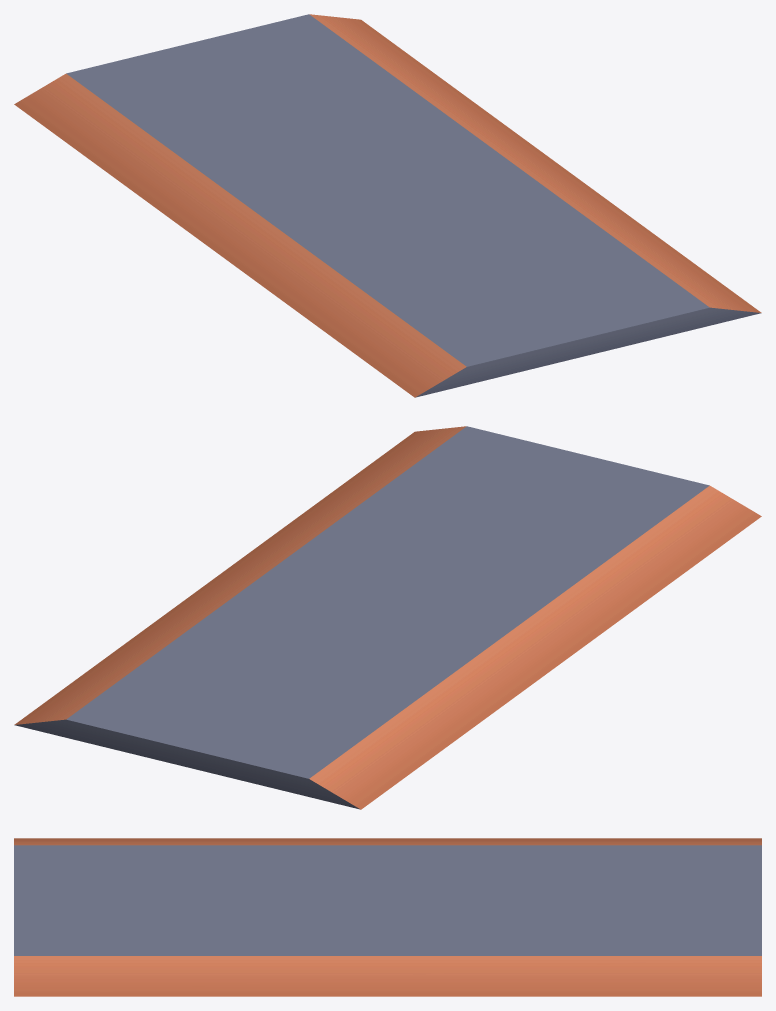
Rendered from sub-path-long.glb.
The picture shows the model from 3 angles, top to bottom: view 1: azimuth 30°, elevation 25°; view 2: azimuth 150°, elevation 25°; view 3: azimuth 270°, elevation 25°; orthographic projection. The views are drawn at different scales.
Visible parts, largest first — view 1: path-long; view 2: path-long; view 3: path-long.
Part boxes in pixels (x1,y1,x2,y2): path-long: [14, 14, 761, 397]; path-long: [14, 426, 761, 809]; path-long: [14, 838, 761, 996].
Size of the model in its own units: 2 by 0.1001 by 4.
Materials: 1 (1 with a texture image).
